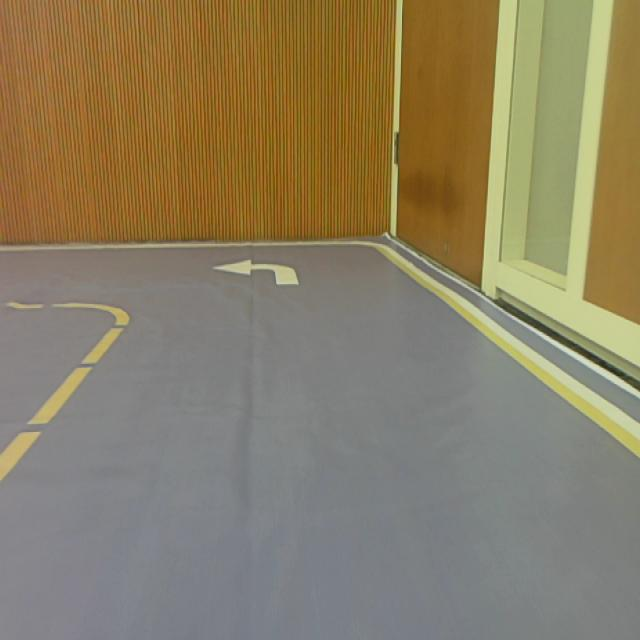left_lane: (0, 319, 131, 481)
right_lane: (377, 244, 640, 458)
